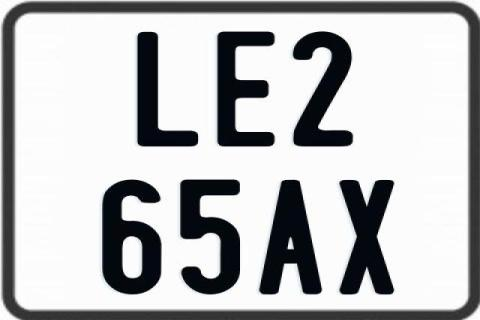0: (179, 178, 243, 294), (101, 178, 164, 294), (291, 29, 351, 145)
A: (256, 178, 323, 294)
E: (214, 30, 278, 148)
L: (138, 31, 200, 151)
X: (338, 178, 398, 294)
